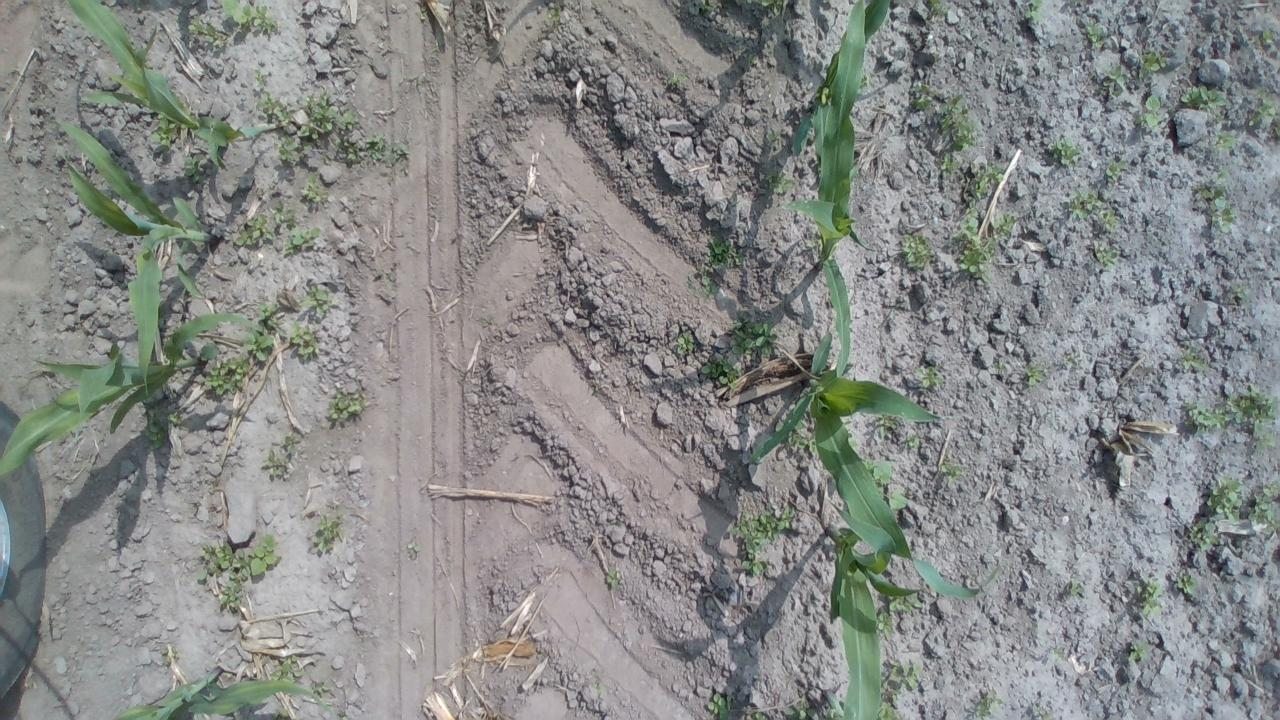Maize: (54, 108, 238, 410), (3, 303, 274, 488), (738, 336, 944, 573), (53, 2, 259, 178), (806, 514, 972, 718), (780, 14, 869, 381), (806, 3, 900, 162), (103, 651, 314, 720)
Weeds: (192, 531, 290, 620), (952, 163, 1012, 282), (911, 81, 982, 155), (189, 1, 283, 46), (1226, 382, 1280, 452), (688, 234, 746, 296), (334, 134, 416, 174), (301, 90, 364, 134), (246, 303, 289, 366), (195, 356, 252, 402), (1180, 515, 1225, 569), (140, 398, 186, 450), (868, 458, 908, 517), (726, 315, 779, 359), (256, 86, 302, 135), (1128, 575, 1166, 634), (257, 432, 302, 481), (1240, 480, 1278, 536), (305, 509, 347, 558), (1198, 182, 1236, 236), (1204, 471, 1242, 524), (733, 517, 765, 579), (1173, 81, 1229, 115), (889, 233, 934, 275), (301, 278, 341, 324), (1184, 400, 1228, 441), (275, 131, 321, 169), (322, 388, 368, 426), (884, 655, 922, 698), (230, 215, 272, 253), (698, 351, 741, 388), (146, 118, 188, 154), (756, 506, 799, 541), (180, 150, 223, 184), (288, 324, 326, 362), (1140, 90, 1170, 136), (278, 223, 321, 255), (700, 688, 741, 720), (1118, 632, 1154, 668), (270, 654, 308, 688), (868, 692, 913, 720), (1251, 94, 1280, 135), (1134, 46, 1168, 80), (760, 163, 794, 197), (964, 686, 1000, 718), (1048, 133, 1082, 166), (865, 605, 898, 639), (1061, 192, 1101, 220), (1098, 65, 1130, 98), (1205, 127, 1232, 164), (1056, 579, 1094, 605), (782, 695, 819, 720), (908, 365, 938, 395), (670, 329, 699, 360), (298, 180, 331, 206), (1078, 18, 1106, 48), (789, 427, 816, 458), (1090, 243, 1122, 268), (1172, 570, 1200, 598), (1174, 346, 1201, 375), (1100, 156, 1128, 183), (872, 408, 902, 433), (1092, 210, 1120, 236), (888, 588, 916, 614), (1045, 644, 1074, 669), (268, 203, 296, 228), (1029, 703, 1067, 720), (476, 313, 505, 335), (1020, 0, 1044, 26), (937, 461, 965, 483), (542, 4, 565, 30), (603, 567, 629, 589), (762, 125, 784, 150), (1020, 365, 1046, 386), (1058, 348, 1083, 369), (1226, 284, 1248, 307), (312, 680, 336, 701), (406, 539, 428, 561), (906, 424, 924, 450), (664, 72, 684, 94), (253, 70, 270, 95), (746, 706, 776, 720), (592, 678, 609, 696), (994, 354, 1011, 370)
